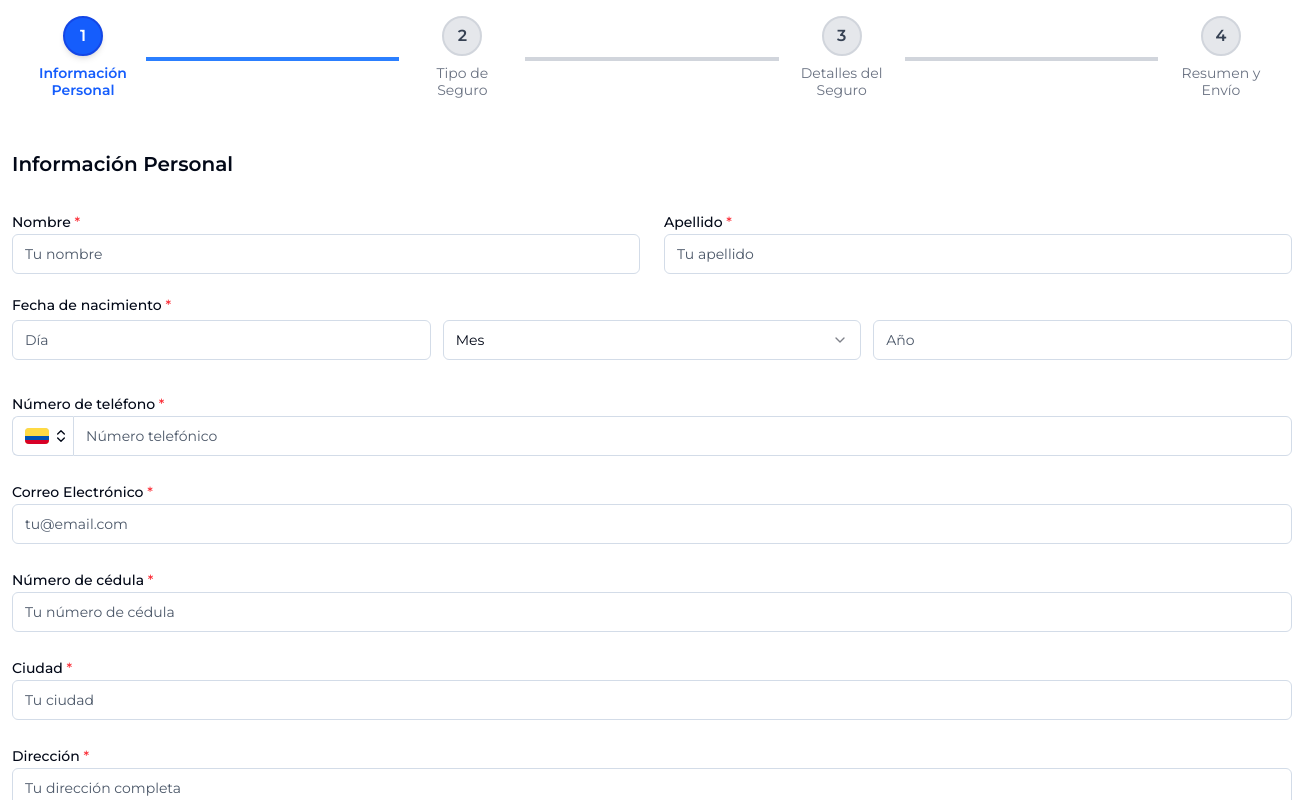
Test: MultiStepQuoteForm — momento de la validación › does not validate on blur; "Siguiente" shows the errors of the step
Click the field labelled "Apellido *". click: (978, 254)
box: [664,234,1292,274]
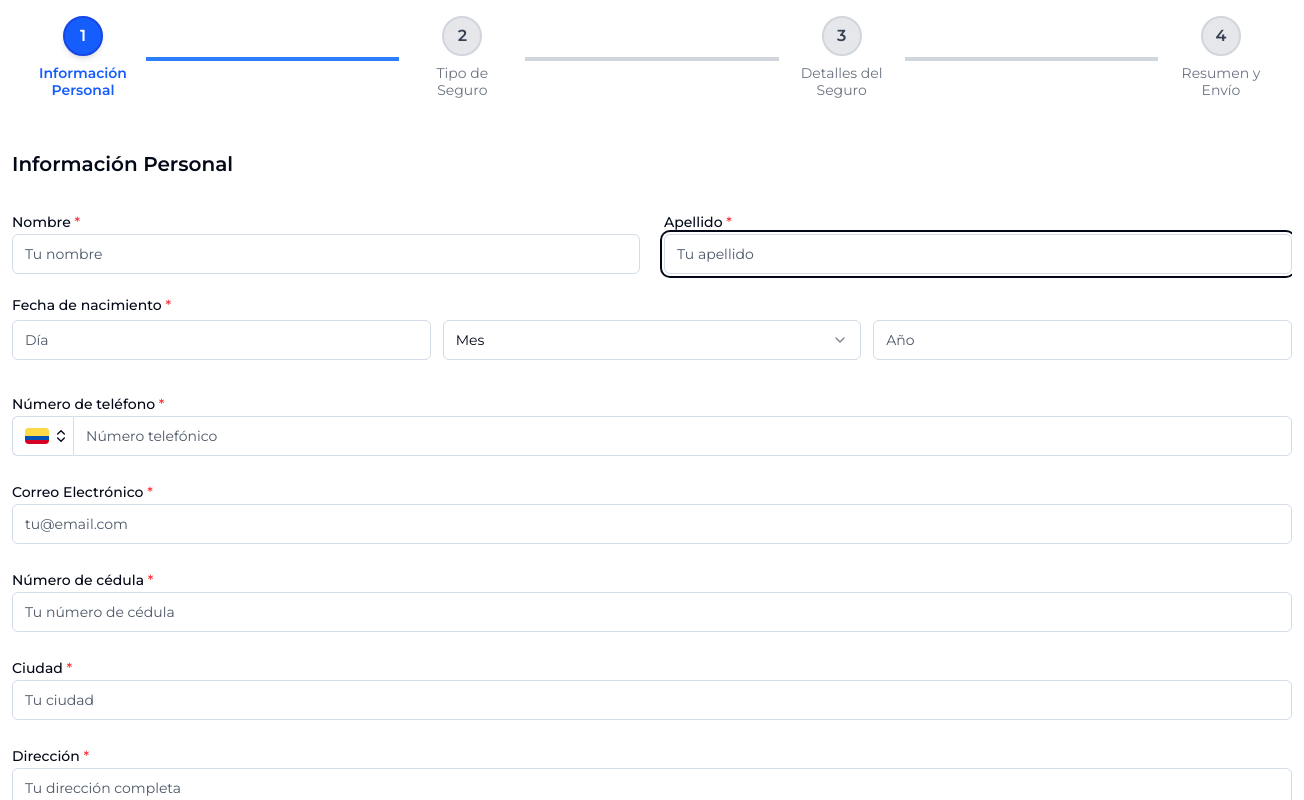
Press Tab
(page scrolled)
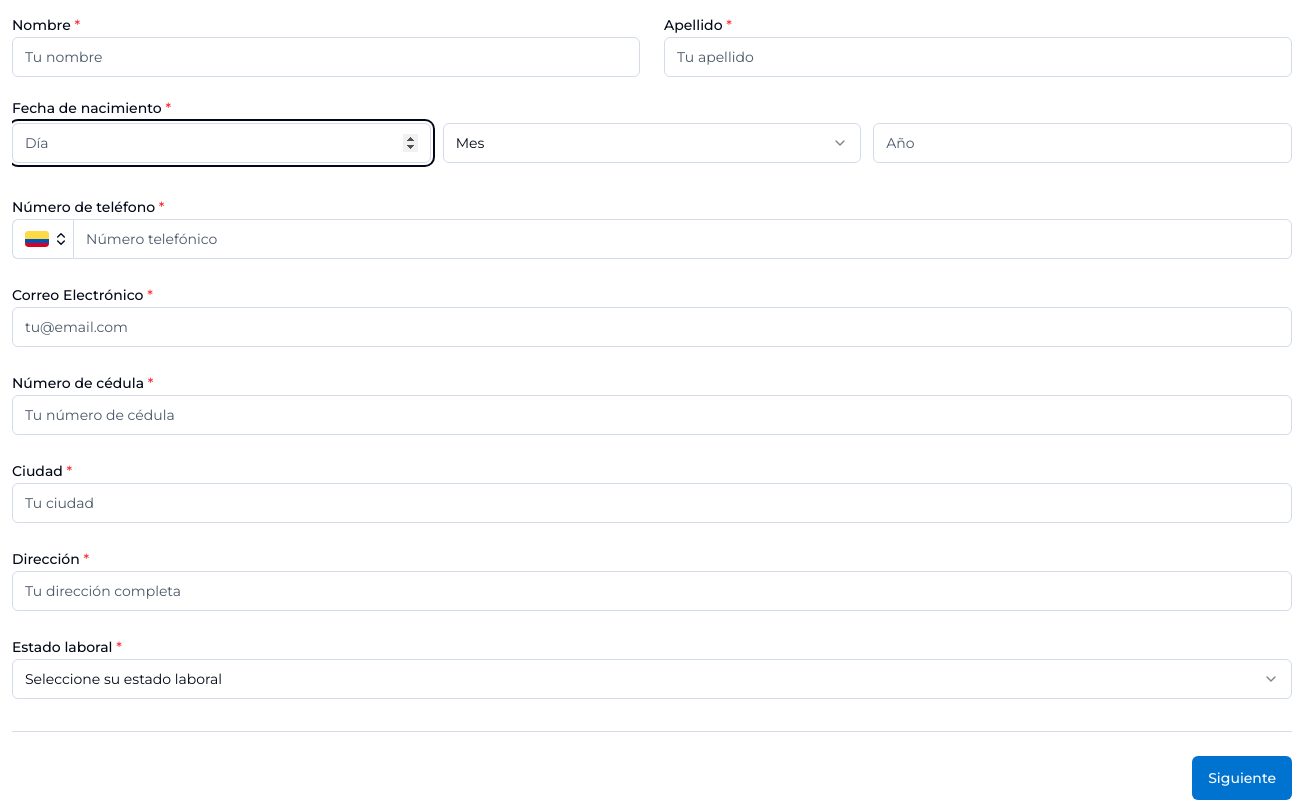
Check: the text "El apellido es requerido" is not shown
Click the button "Siguiente". click: (1242, 778)
box: [1192,756,1292,799]
(page scrolled)
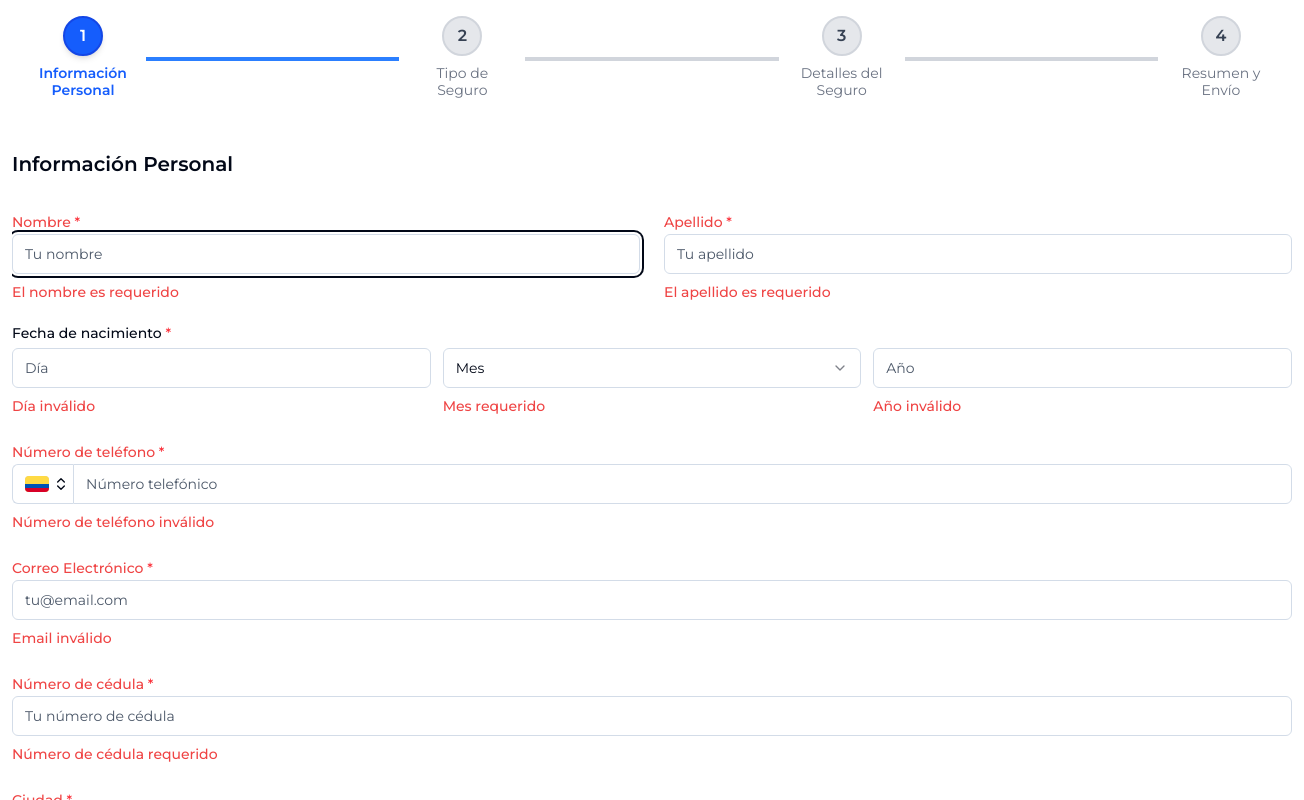
Check: the heading "Información Personal" is shown, box [12,152,233,176]
Check: the text "El apellido es requerido" is shown, box [664,283,830,301]
